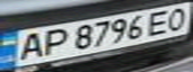6: (124, 12, 151, 41)
7: (90, 19, 115, 48)
8: (69, 21, 97, 52)
9: (109, 16, 133, 45)
A: (9, 29, 48, 62)
E: (142, 7, 178, 36)
O: (160, 4, 193, 32)
P: (36, 26, 72, 57)
